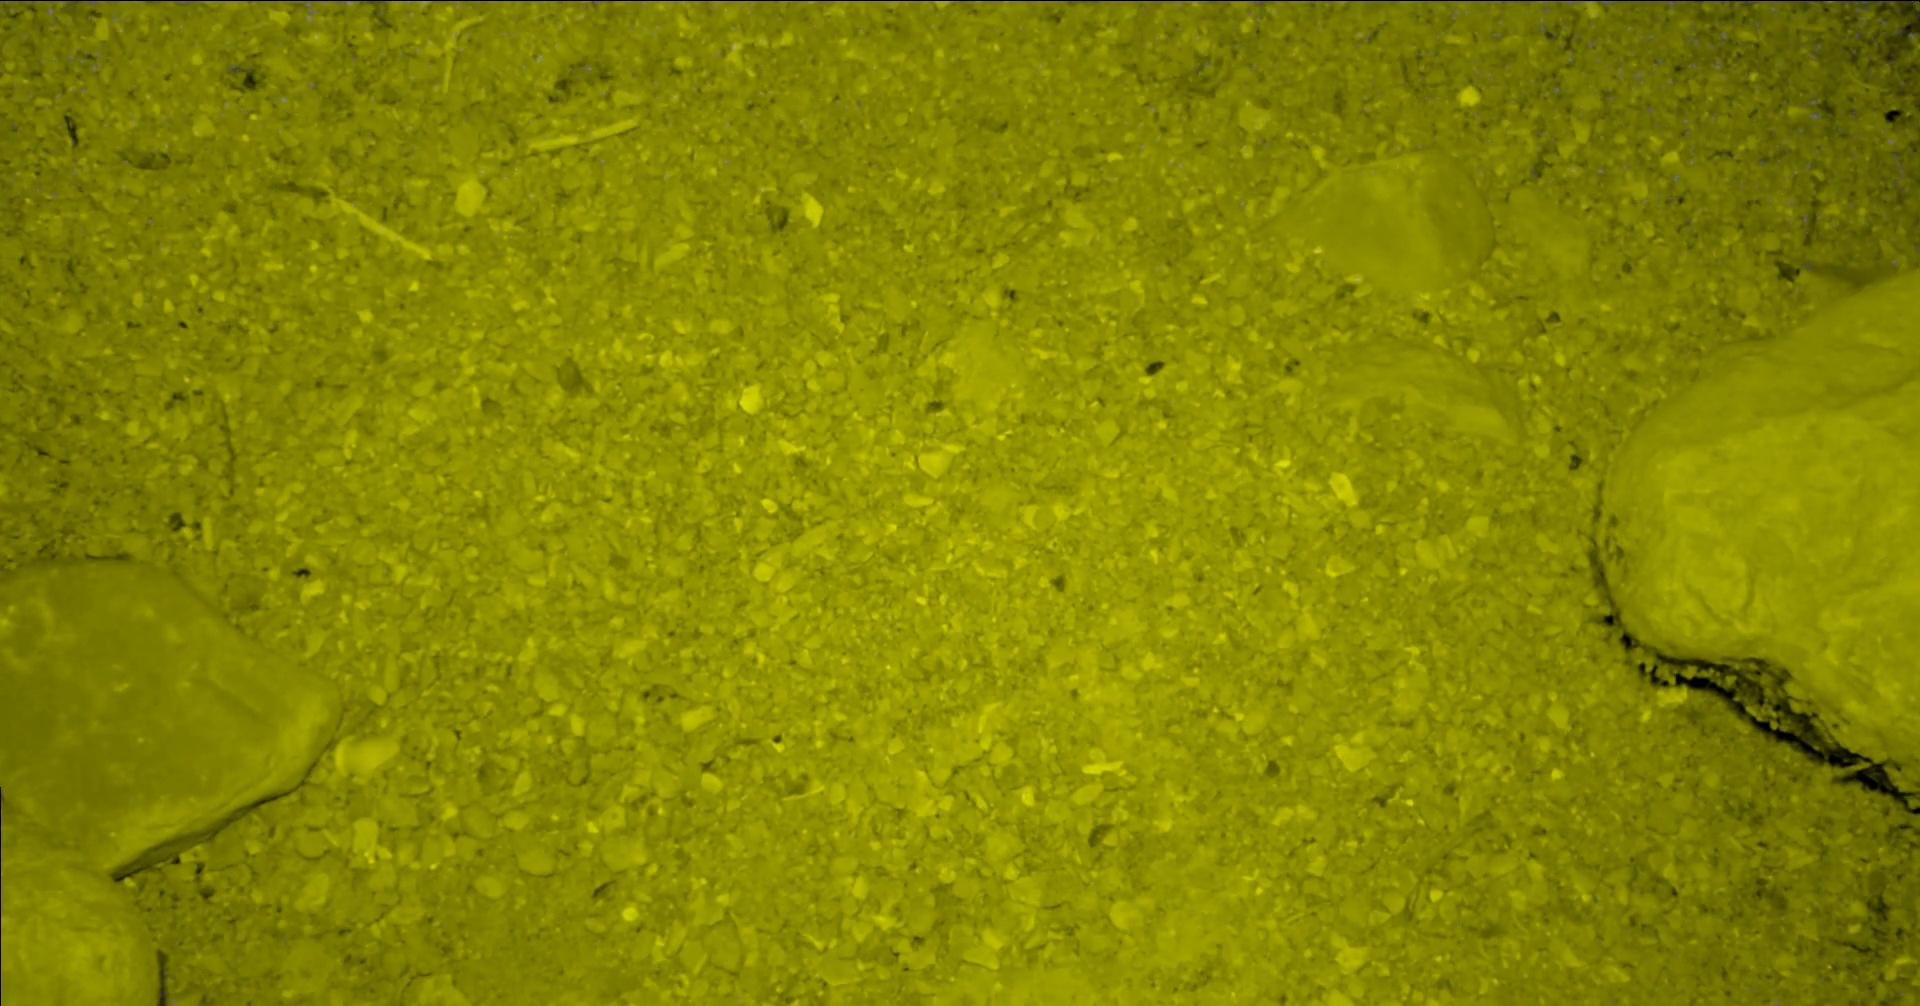ant: (1611, 0, 1826, 8), (1832, 0, 1903, 11)
